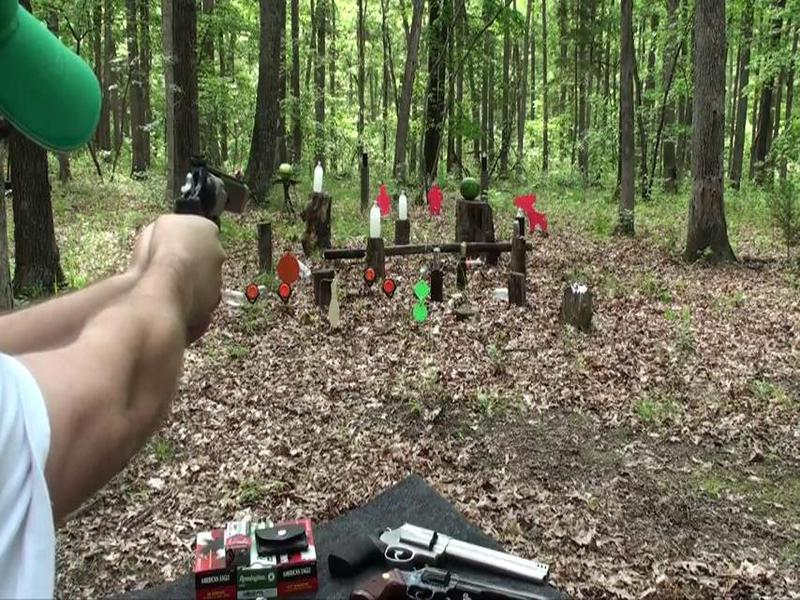Revolver: (167, 144, 258, 256)
